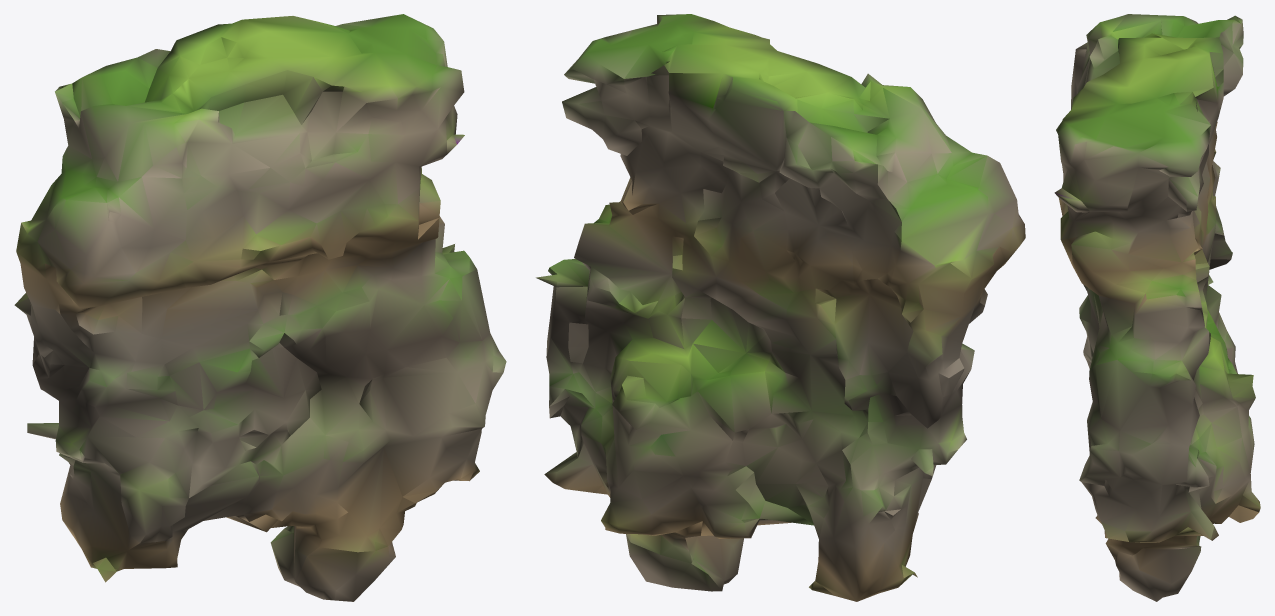
File: glade_cliff_wall_c_lod1.glb
The picture shows the model from 3 angles, left to right: view 1: azimuth 30°, elevation 25°; view 2: azimuth 150°, elevation 25°; view 3: azimuth 270°, elevation 25°; orthographic projection. The views are drawn at different scales.
Visible parts, largest first — view 1: glade_cliff_wall_c.001; view 2: glade_cliff_wall_c.001; view 3: glade_cliff_wall_c.001.
Boxes of the visible parts, bbox=[...] form: glade_cliff_wall_c.001: bbox=[14, 14, 506, 601]; glade_cliff_wall_c.001: bbox=[536, 14, 1025, 601]; glade_cliff_wall_c.001: bbox=[1054, 14, 1260, 601].
Bounding box in the file's own units: 18.42 × 22.09 × 8.16.
